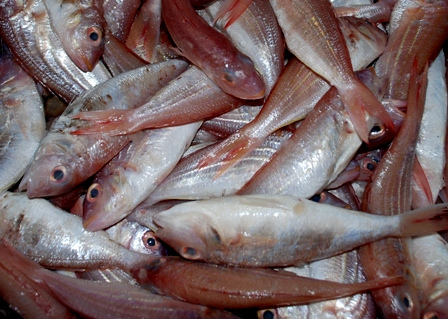Ikan Kerisi: (149, 195, 445, 264), (19, 53, 120, 205), (168, 10, 275, 116)
